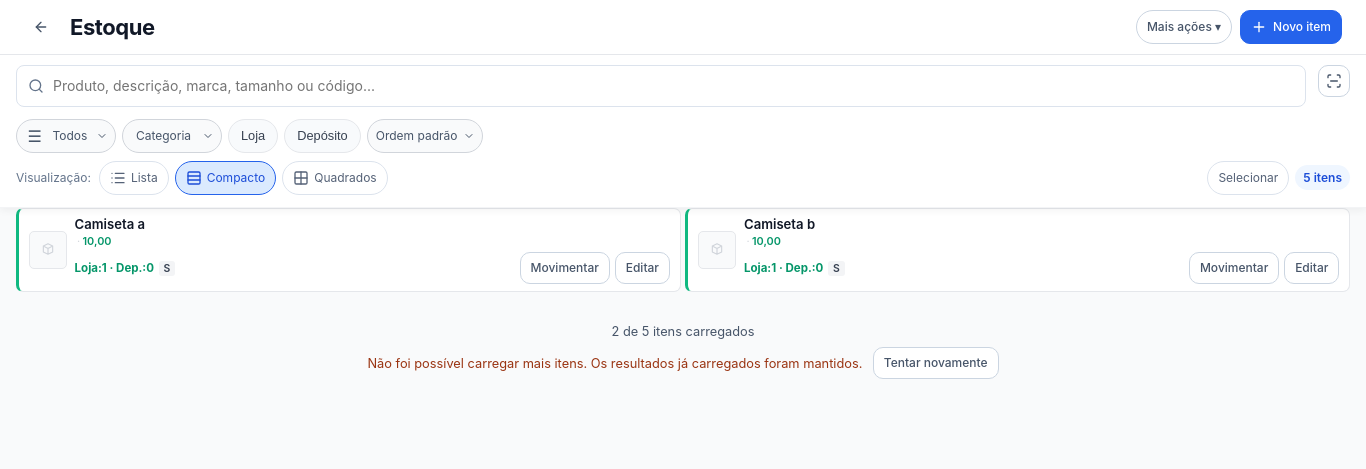
it: Inventory search counts and mobile progress › keeps results on an append error, never loops retries, and offers a manual retry
The image size is (1366, 469).
Expected: the number of elements with class "item-card" is 2, [16,208,681,292]; [685,208,1350,292]
Step 1. Click the button "Tentar novamente" → (936, 364), box [873,348,999,380]
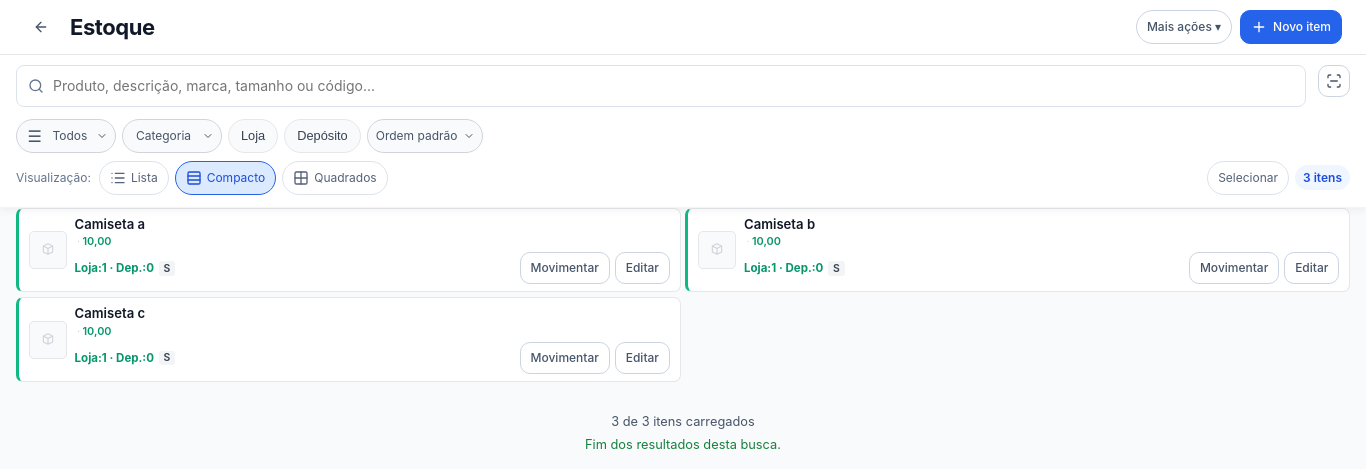
Expected: the message with class "results-complete" shows "Fim dos resultados", [585,437,781,452]
Expected: the number of elements with class "item-card" is 3, [16,208,681,292]; [685,208,1350,292]; [16,297,681,382]
